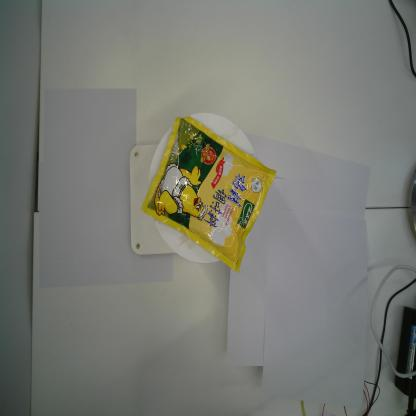Seasoner: (138, 114, 278, 277)
